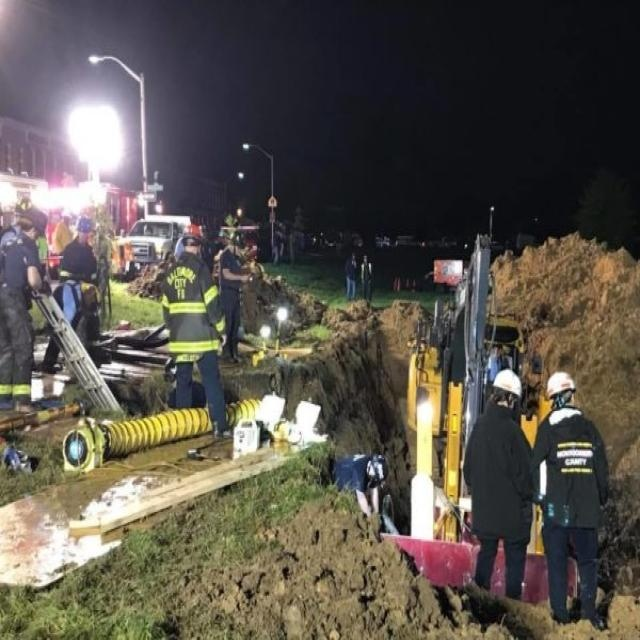Con_Casco: (492, 367, 523, 413), (544, 369, 576, 410)
